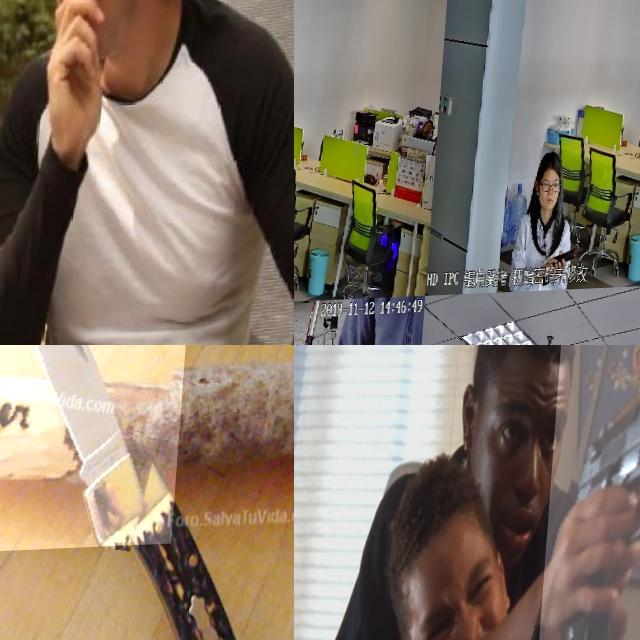-: (0, 345, 194, 555), (0, 224, 75, 345)
gun-knife-thesis - v11 Yolov5 augmented: (541, 345, 640, 640), (542, 250, 581, 294), (294, 131, 307, 200)
